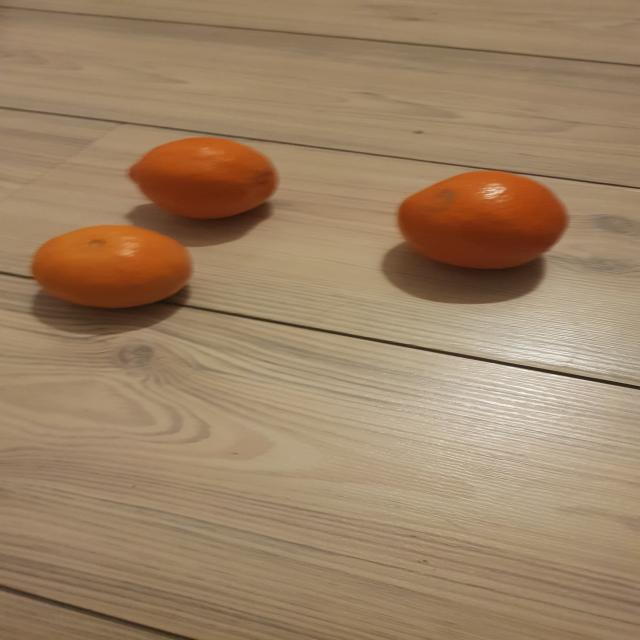Orange: (396, 171, 569, 273), (30, 226, 193, 311), (126, 136, 279, 222)
